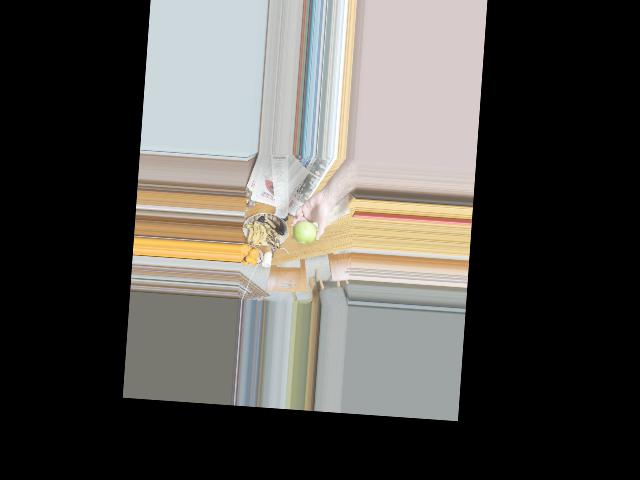apple: (291, 218, 319, 247)
